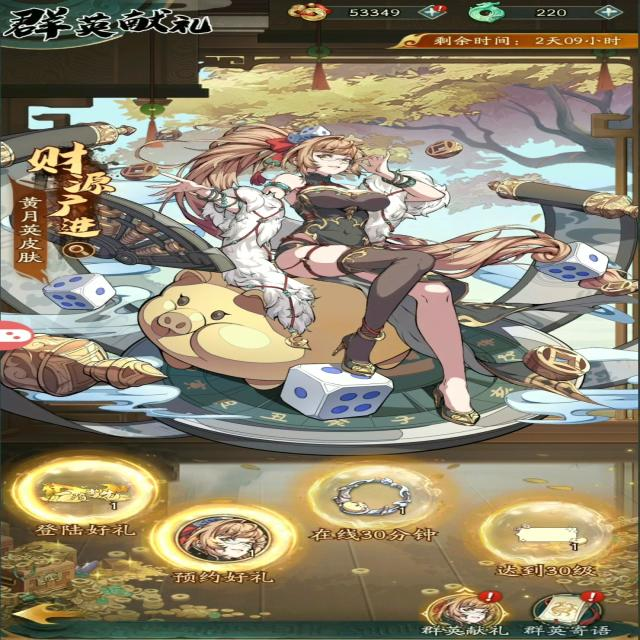hint-reddot: (578, 589, 606, 604), (477, 589, 504, 604), (434, 5, 446, 14)
operation-back: (12, 598, 101, 631)
operation-detail: (42, 238, 112, 266)
operation-qunyinggift1on: (8, 450, 165, 535)
operation-qunyinggift2on: (150, 496, 292, 574)
operation-qunyinggift3on: (306, 441, 442, 538)
operation-qunyinggift4on: (474, 489, 610, 575)
operation-qunyingjiyu: (522, 584, 621, 637)
operation-qunyingxianli: (411, 587, 513, 639)
